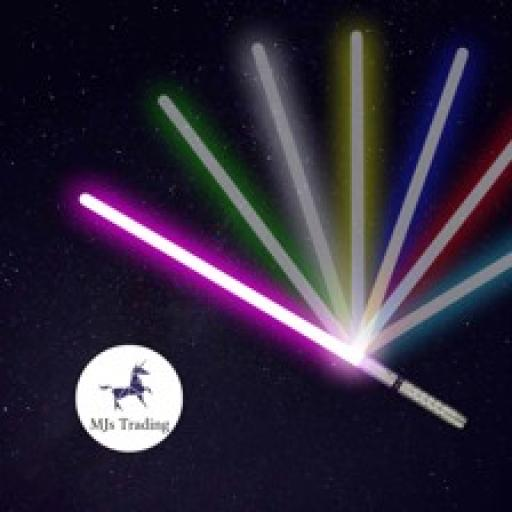lightsaber: (76, 186, 470, 432)
